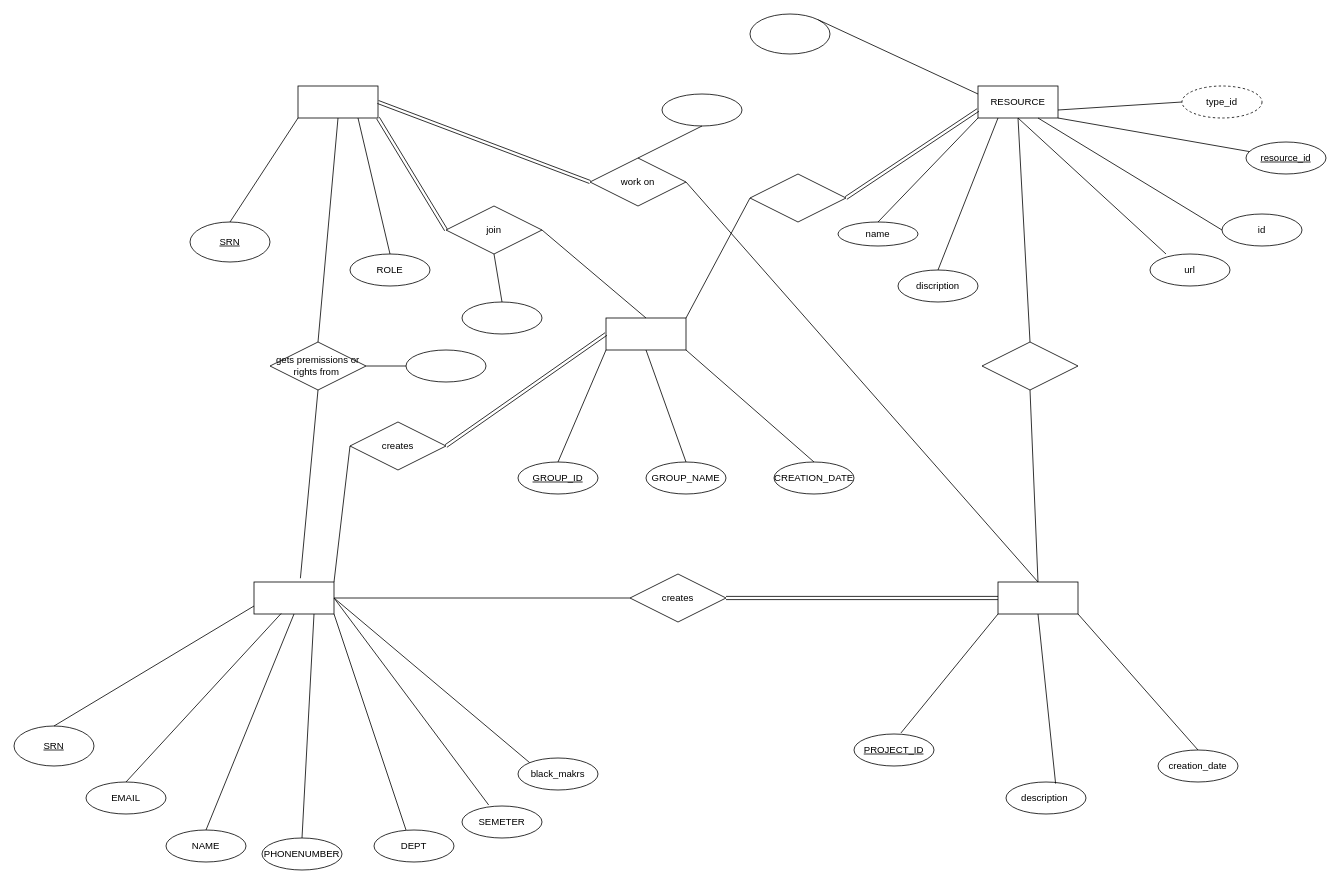
Some shapes in this 1340 by 884 pixel diagram are drawn without their labels. The shapes that lost their labels are listed below. From the top down, each one's box as (x1, y1, x2, y2) in pixels, then its label:
(749, 13, 830, 54): type
(297, 85, 378, 118): MEMBERS
(661, 93, 742, 126): CHANGES
(749, 173, 846, 222): need to study from
(461, 301, 542, 334): STATE
(605, 317, 686, 350): STUDY_GROUP
(405, 349, 486, 382): permission level
(981, 341, 1078, 390): required for
(253, 581, 334, 614): USER
(997, 581, 1078, 614): PROJECT
